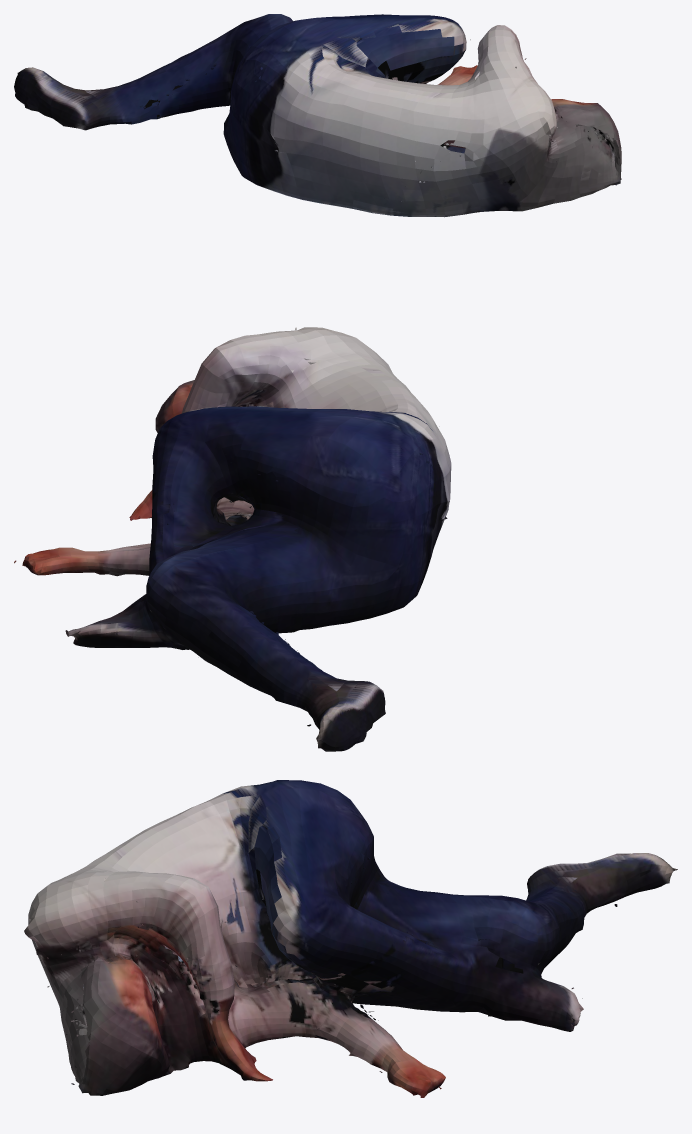
File: AB-death_0000121.obj
The picture shows the model from 3 angles, top to bottom: view 1: azimuth 30°, elevation 25°; view 2: azimuth 150°, elevation 25°; view 3: azimuth 270°, elevation 25°; orthographic projection. The views are drawn at different scales.
Parts seen in each view (by area): view 1: Retopo_frame_0000121_mesh; view 2: Retopo_frame_0000121_mesh; view 3: Retopo_frame_0000121_mesh.
Part boxes in pixels (x1,y1,x2,y2): Retopo_frame_0000121_mesh: [14, 14, 621, 217]; Retopo_frame_0000121_mesh: [14, 327, 451, 751]; Retopo_frame_0000121_mesh: [24, 780, 677, 1097].
Size of the model in its own units: 1.12 by 0.3617 by 1.23.
Materials: 1 (1 with a texture image).
